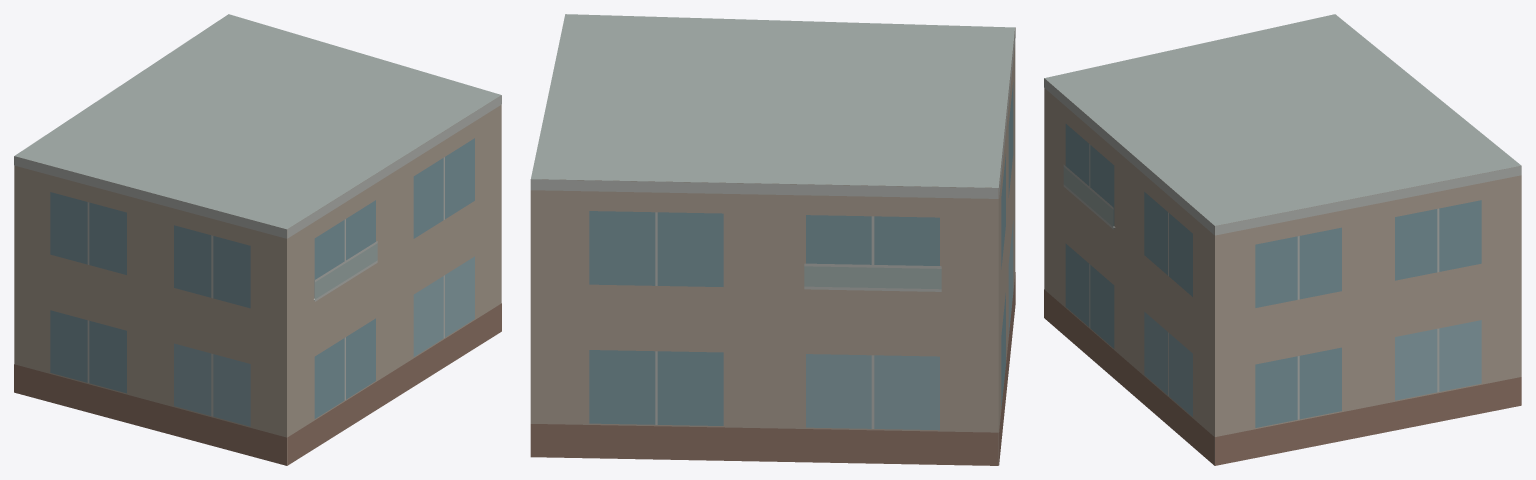
Rendered from survey-upis-32890742.glb.
3 views of the same model, side by side, from view 1: azimuth 30°, elevation 25°; view 2: azimuth 150°, elevation 25°; view 3: azimuth 270°, elevation 25° (orthographic). The views are drawn at different scales.
Visible parts, largest first — view 1: survey-upis-32890742.tmp; view 2: survey-upis-32890742.tmp; view 3: survey-upis-32890742.tmp.
Part boxes in pixels (x1,y1,x2,y2): survey-upis-32890742.tmp: (14, 14, 501, 465); survey-upis-32890742.tmp: (530, 14, 1015, 465); survey-upis-32890742.tmp: (1044, 14, 1521, 465).
Bounding box in the file's own units: 11.57 × 6.1 × 11.01.
